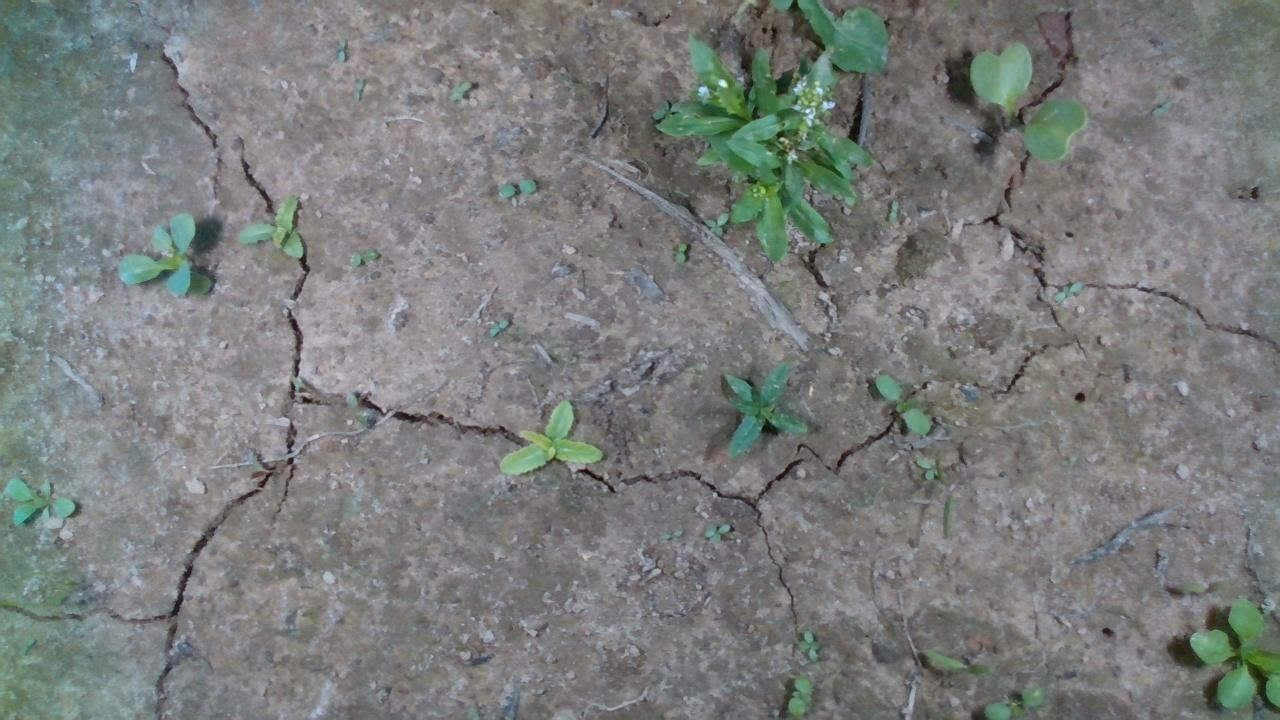weed: (720, 359, 807, 457), (498, 397, 604, 475), (231, 191, 312, 269), (868, 381, 942, 438), (2, 472, 77, 523), (911, 450, 978, 499), (438, 72, 487, 104), (656, 238, 698, 274), (341, 248, 389, 277), (495, 177, 541, 205), (792, 630, 829, 661), (1053, 278, 1092, 306), (879, 191, 902, 230), (701, 204, 727, 234), (330, 31, 349, 62), (346, 73, 367, 96)
